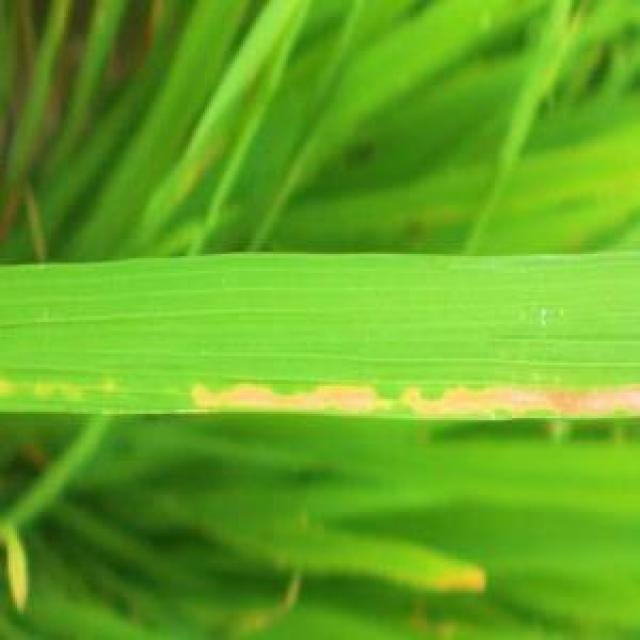leaf blight: (183, 369, 640, 420)
